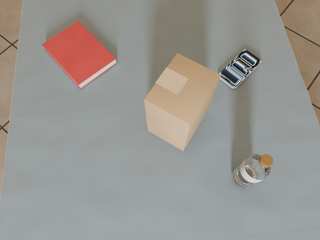book: (42, 21, 117, 89)
bottle: (232, 153, 273, 189)
box: (144, 53, 221, 151)
phone: (219, 49, 262, 88)
